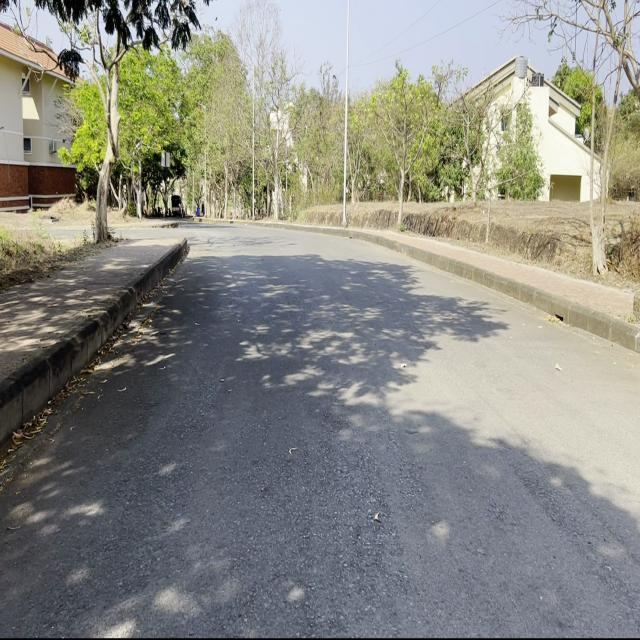Road: (4, 221, 637, 630)
